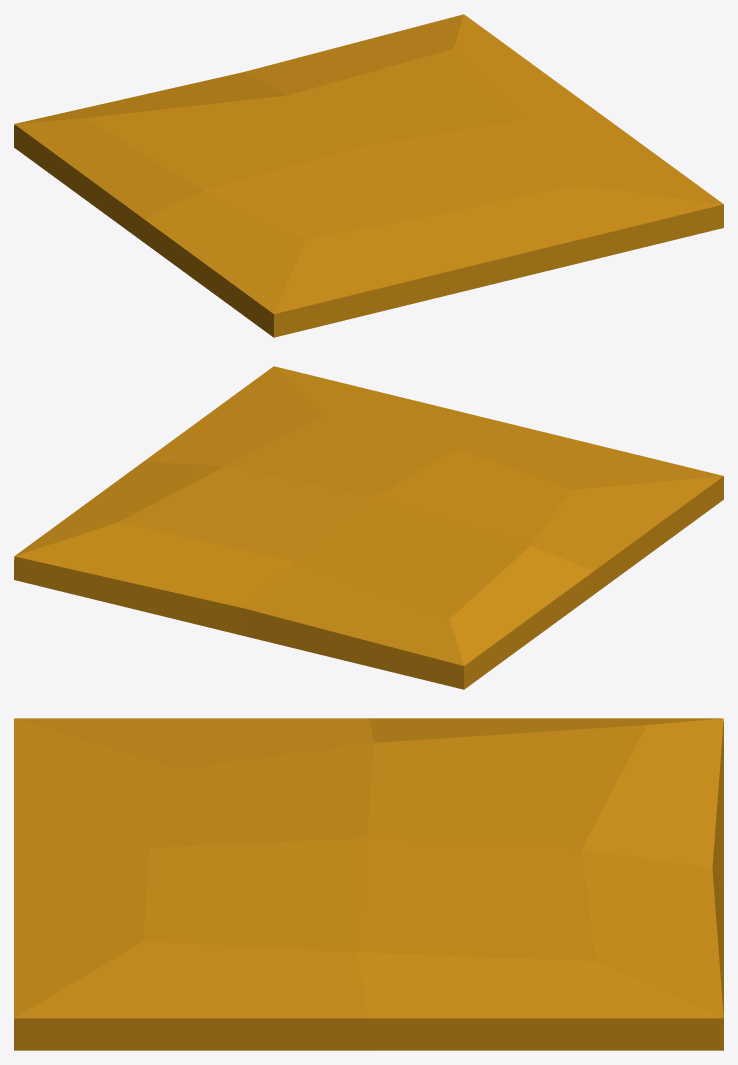
Rendered from Dirt Rock.fbx.
3 views of the same model, one above another, from view 1: azimuth 30°, elevation 25°; view 2: azimuth 150°, elevation 25°; view 3: azimuth 270°, elevation 25° (orthographic). The views are drawn at different scales.
Visible parts, largest first — view 1: Dirt Rock; view 2: Dirt Rock; view 3: Dirt Rock.
Boxes of the visible parts, bbox=[...] form: Dirt Rock: bbox=[14, 14, 723, 337]; Dirt Rock: bbox=[14, 366, 723, 689]; Dirt Rock: bbox=[14, 718, 723, 1050].
Size of the model in its own units: 1000 by 91.5 by 1000.
